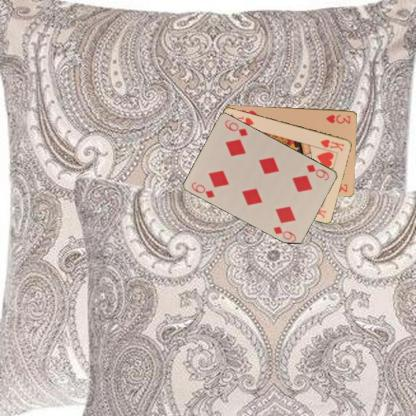3h: (323, 112, 352, 125)
6d: (189, 180, 216, 199), (304, 162, 330, 181)
Kh: (318, 136, 345, 152)
